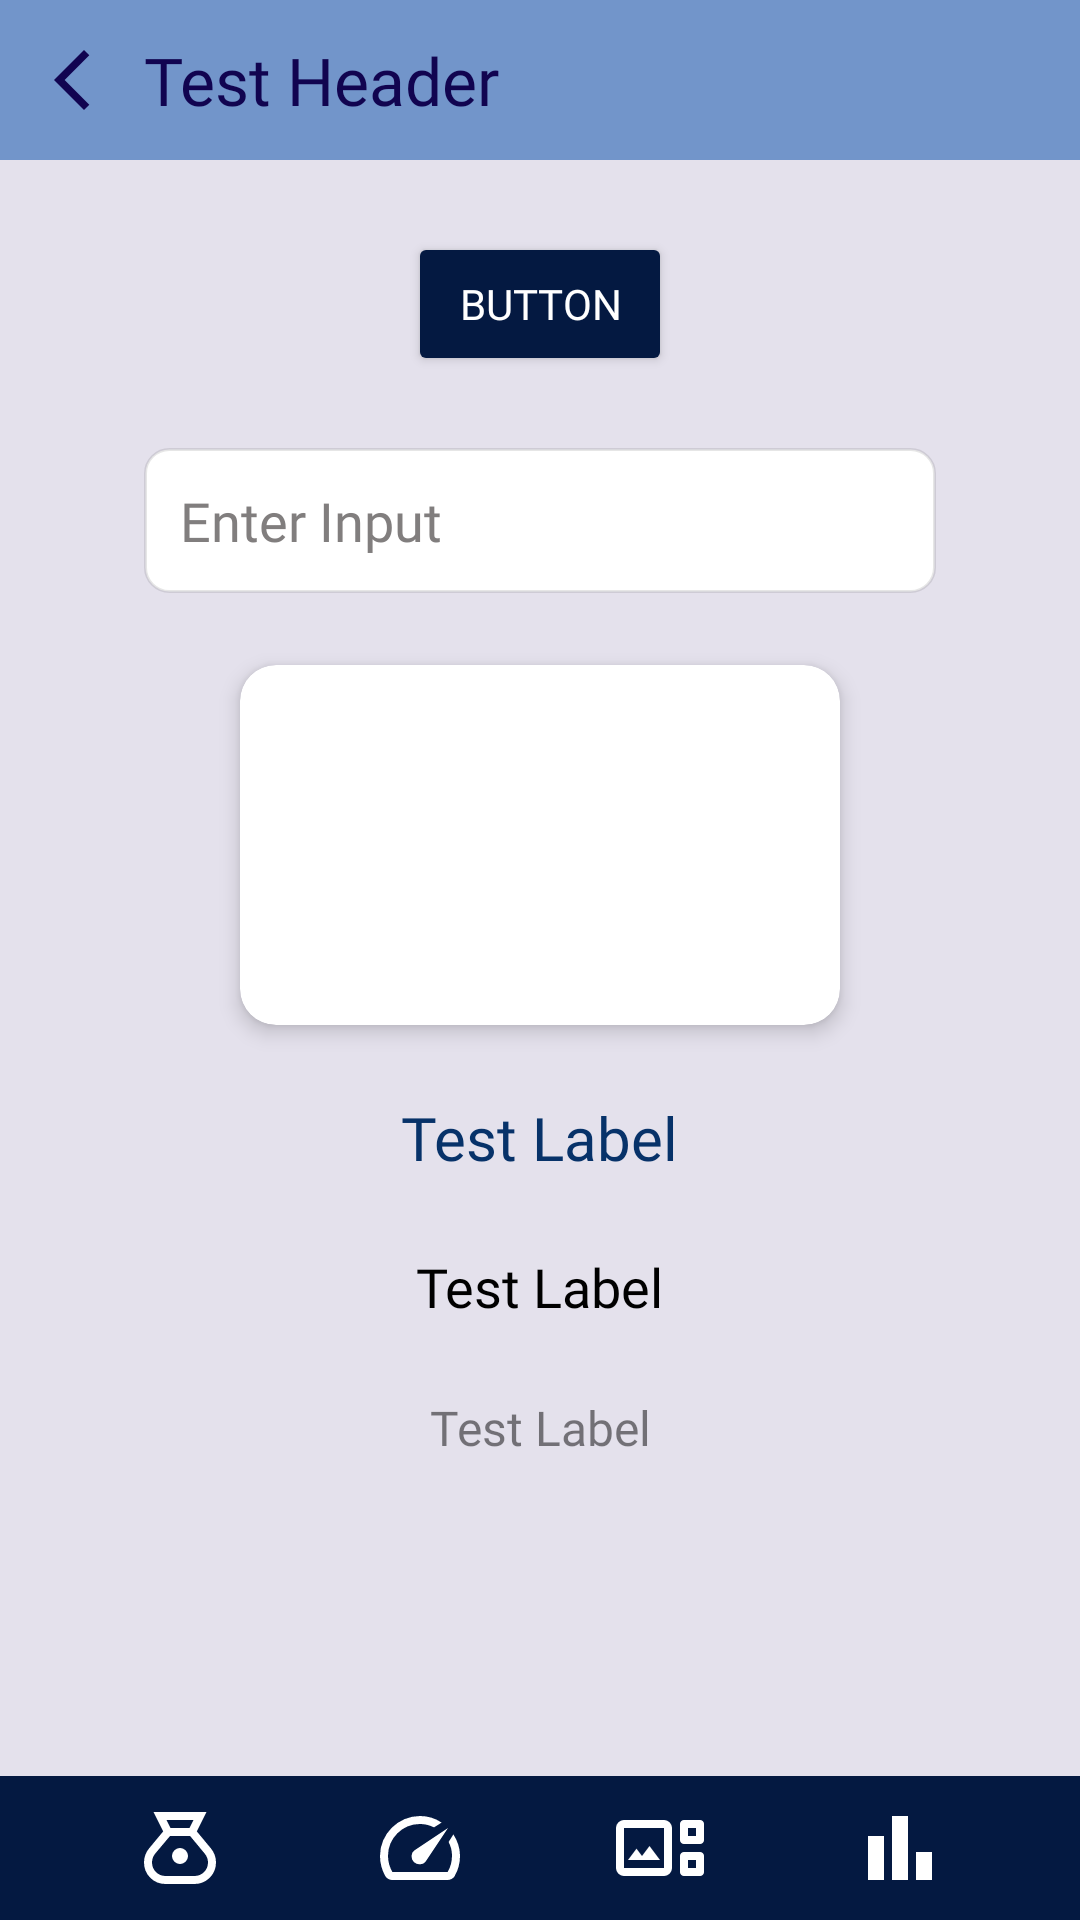

Named icons in this screenshot (1080 × 1920) and their bounding boxes, (x1, y1, x2, y2):
arrow left: (54, 50, 89, 110)
navigationbar barchart: (868, 1816, 932, 1880)
navigationbar gallery: (616, 1820, 704, 1876)
navigationbar meter: (380, 1816, 460, 1880)
navigationbar moneybag: (144, 1812, 216, 1884)
